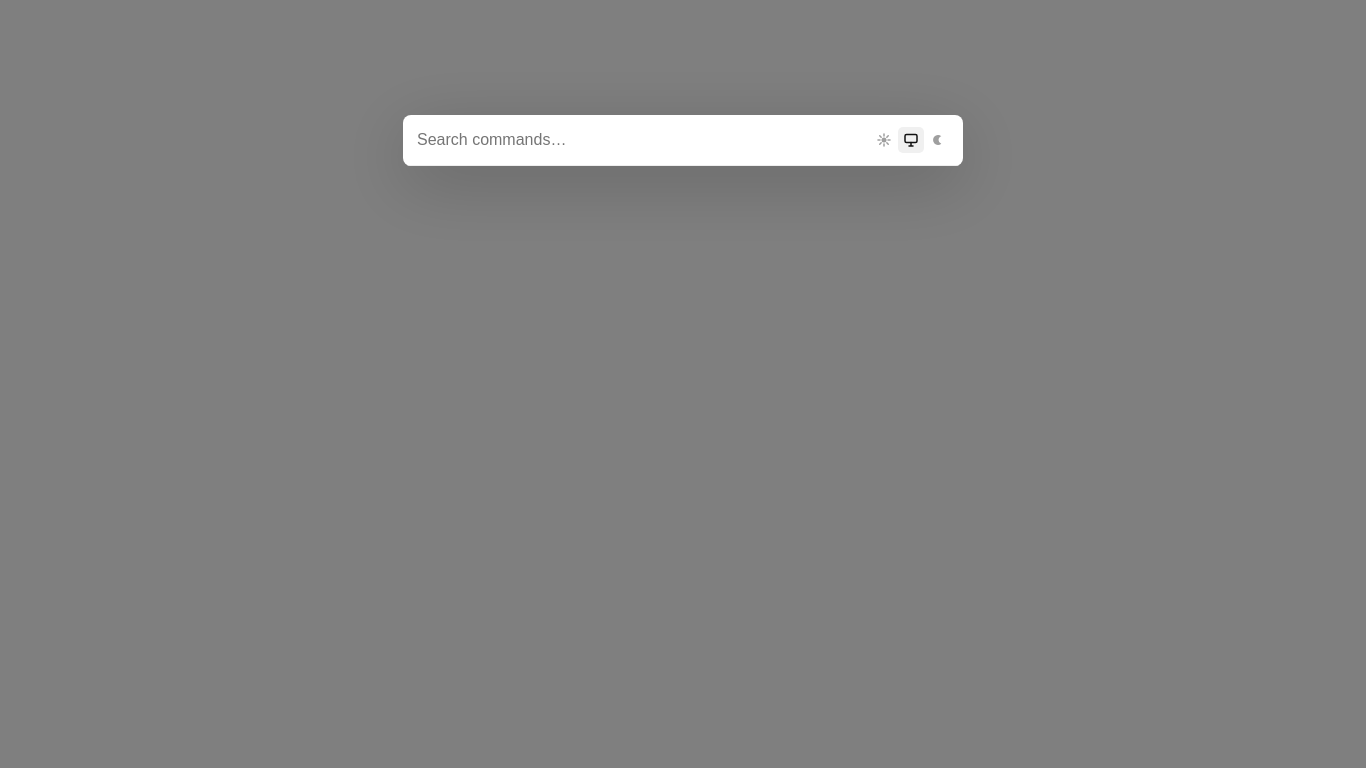
Scenario: CommandPalette › opens a nested sub-palette and shows a breadcrumb
This screenshot has width=1366, height=768.
Type "parent" into the dropdown with placeholder "Search commands…" at (639, 140), box [415,130,863,150]
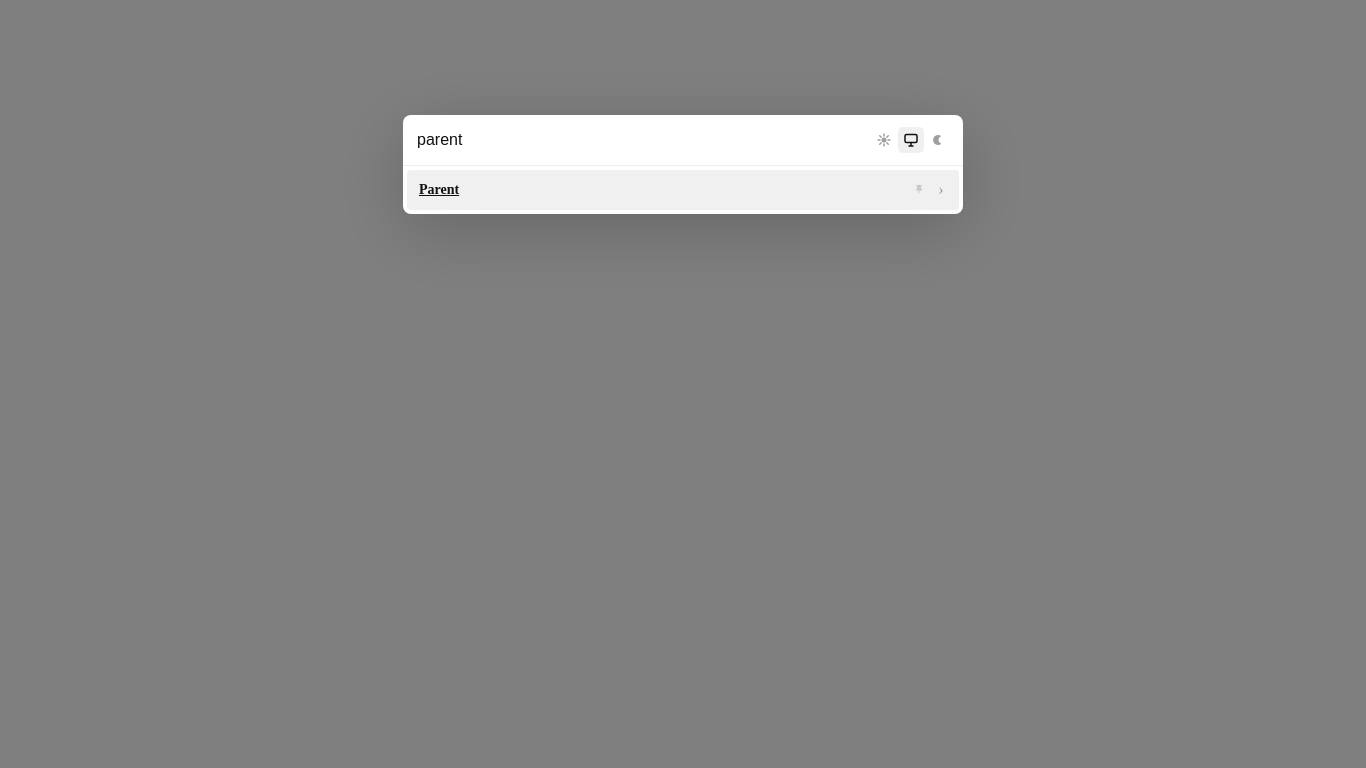
Click the option "Parent ›" at (439, 190), box [407,170,959,210]
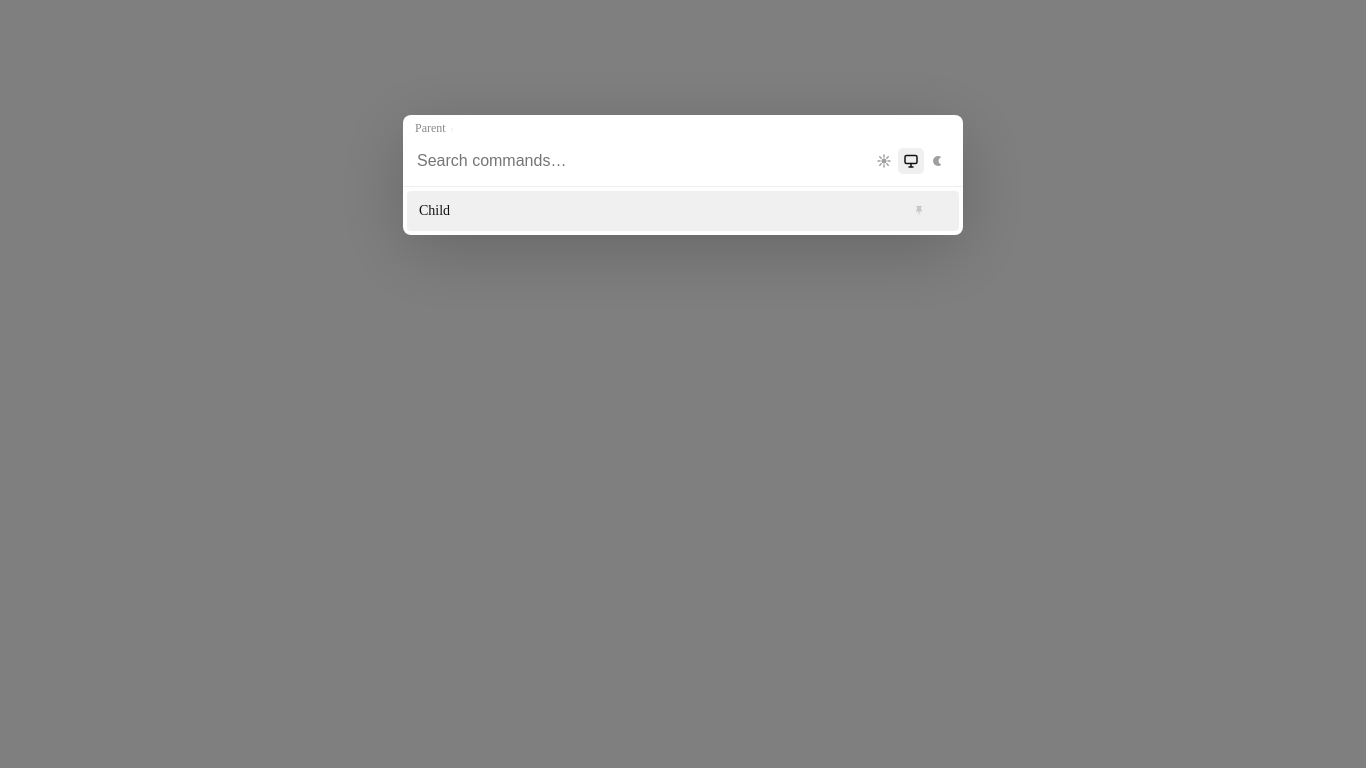
Check: the element showing "Parent ›" is shown, box [415,121,454,135]
Check: the text "Child" is shown, box [419,203,450,218]
